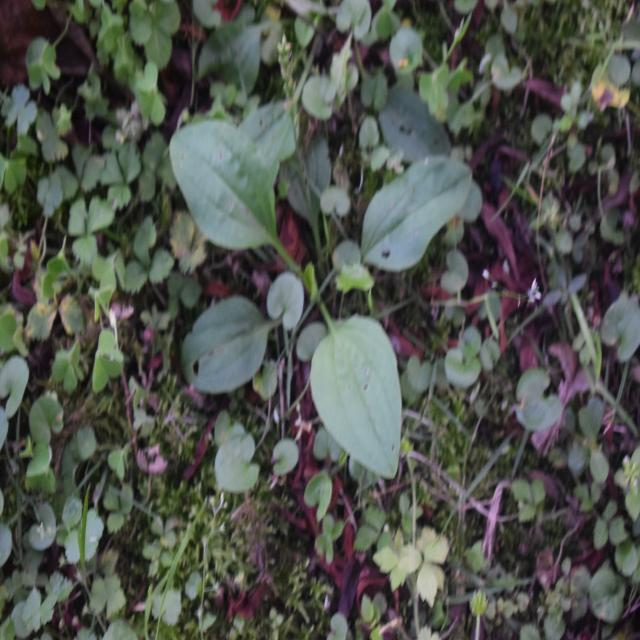plantain: (165, 110, 448, 470)
